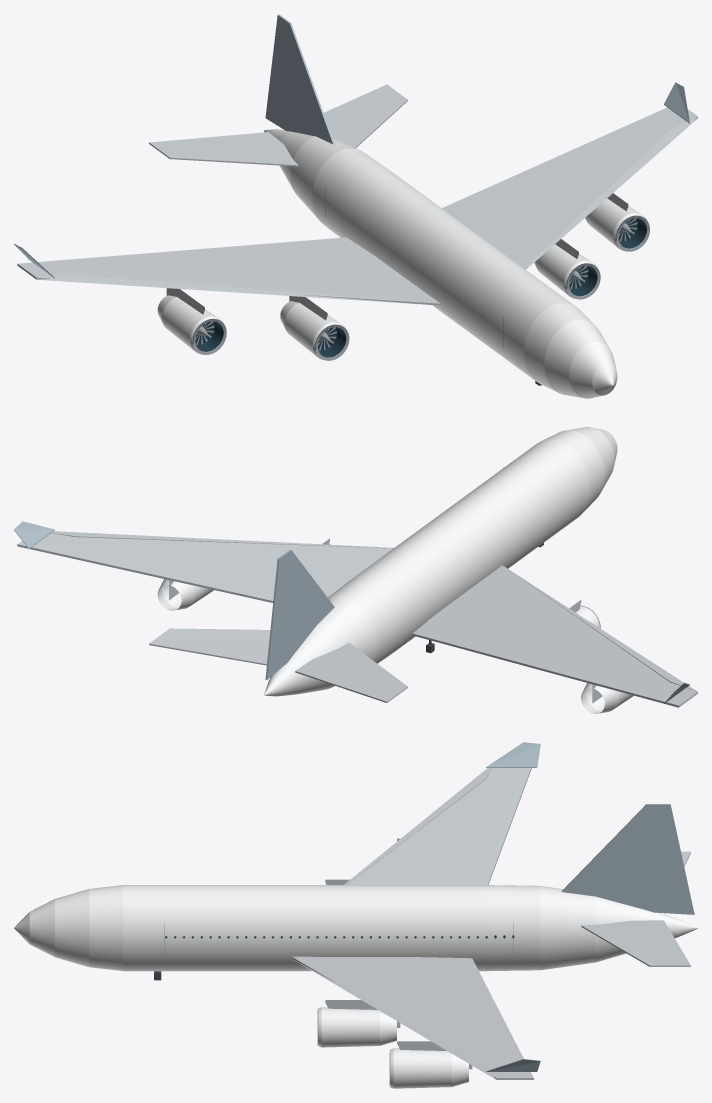
The model's file is a380-neutral-v3.gltf.
3 renders of one model, top to bottom at view 1: azimuth 30°, elevation 25°; view 2: azimuth 150°, elevation 25°; view 3: azimuth 270°, elevation 25°, orthographic.
Parts seen in each view (by area): view 1: object 1; view 2: object 1; view 3: object 1.
Part boxes in pixels (bbox=[...]): object 1: bbox=[14, 14, 697, 398]; object 1: bbox=[14, 427, 697, 713]; object 1: bbox=[14, 742, 697, 1088].
Bounding box in the file's own units: 80 × 21.35 × 73.
